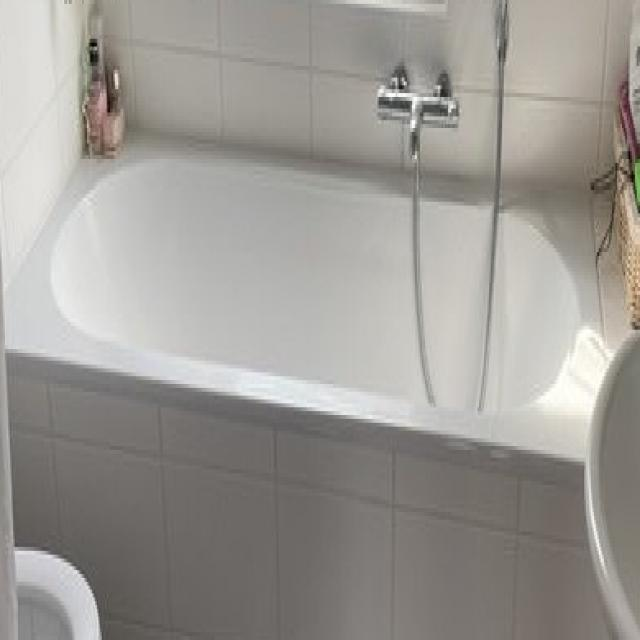bath: (3, 65, 640, 560)
toilet: (0, 543, 102, 640)
wastafel: (584, 326, 640, 640)
